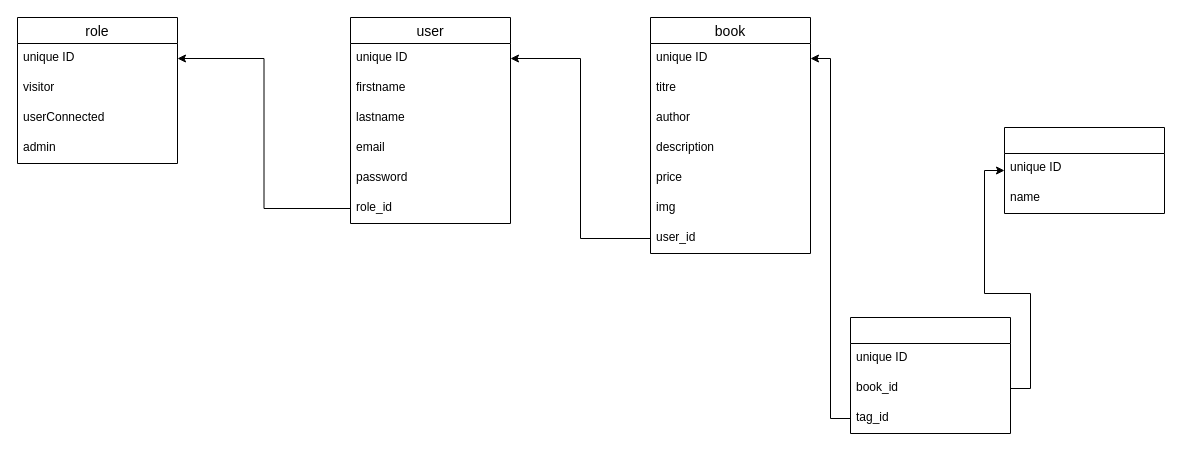
Image size: 1182x454. Some labels were removed from this diagram. The shapes that lost their labels are listed below. From the top down, each one's box as (x1, y1, x2, y2) in pixels, then its label:
(1004, 126, 1164, 214): tag
(850, 316, 1010, 434): book_has_tag
